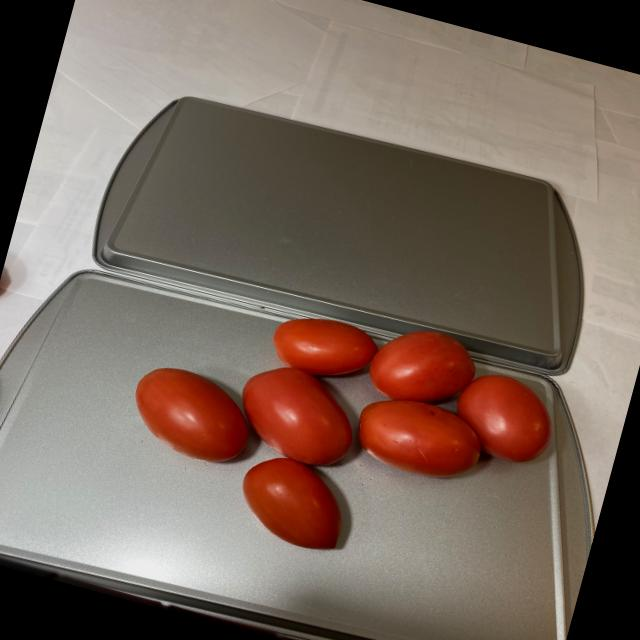tomato: (106, 260, 574, 602)
